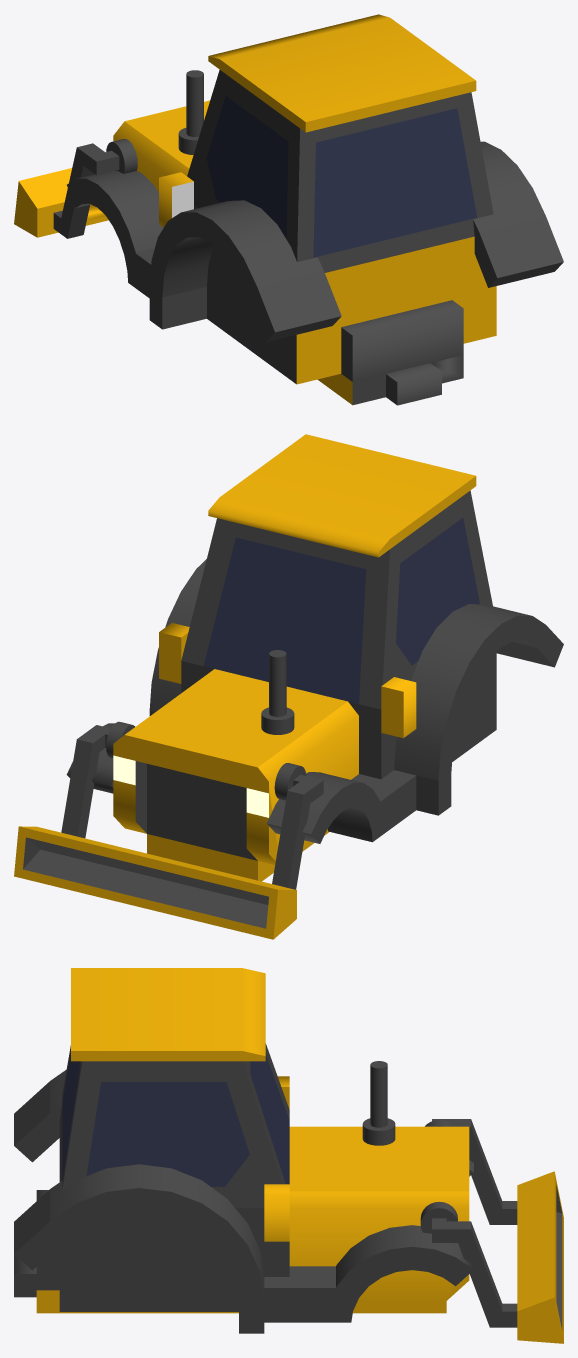
Rendered from SM_Tractor_Shovel_Body.fbx.
3 renders of one model, top to bottom at view 1: azimuth 30°, elevation 25°; view 2: azimuth 150°, elevation 25°; view 3: azimuth 270°, elevation 25°, orthographic.
Visible parts, largest first — view 1: SM_Tractor_Shovel_Body; view 2: SM_Tractor_Shovel_Body; view 3: SM_Tractor_Shovel_Body.
Boxes of the visible parts, left/top/right/bottom form: SM_Tractor_Shovel_Body: left=14, top=14, right=563, bottom=405; SM_Tractor_Shovel_Body: left=14, top=434, right=563, bottom=939; SM_Tractor_Shovel_Body: left=14, top=968, right=563, bottom=1343.
Bounding box in the file's own units: 1.46 × 1.34 × 2.41.
